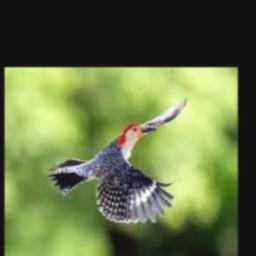Woodpecker: (48, 96, 188, 223)
